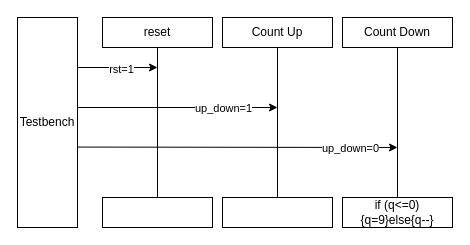
Image size: 470x245. Some labels were removed from this diagram. Here are the shapes that lost their labels. From the top down, the box of each, then its label:
(102, 196, 212, 228): counter_reg=0
(222, 196, 332, 228): if (q>9){q=0}else{q++}
